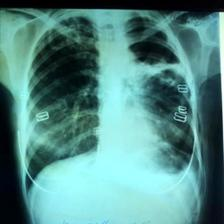tuberculosis: (17, 13, 200, 199)
